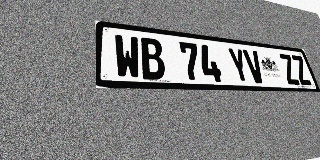4: (197, 44, 223, 82)
7: (178, 42, 204, 81)
B: (139, 37, 166, 80)
V: (242, 49, 267, 84)
W: (114, 34, 142, 79)
Y: (226, 47, 251, 83)
Z: (278, 53, 301, 85), (290, 55, 313, 85)
